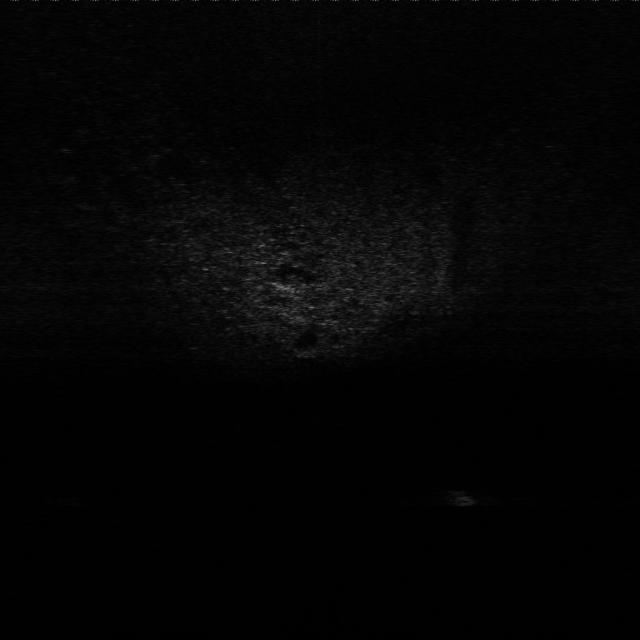cylinder: (453, 480, 479, 509)
